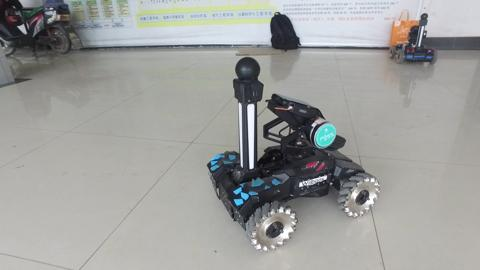bag: (267, 9, 303, 53), (389, 10, 418, 46)
chariot: (205, 55, 381, 251), (387, 11, 438, 65)
